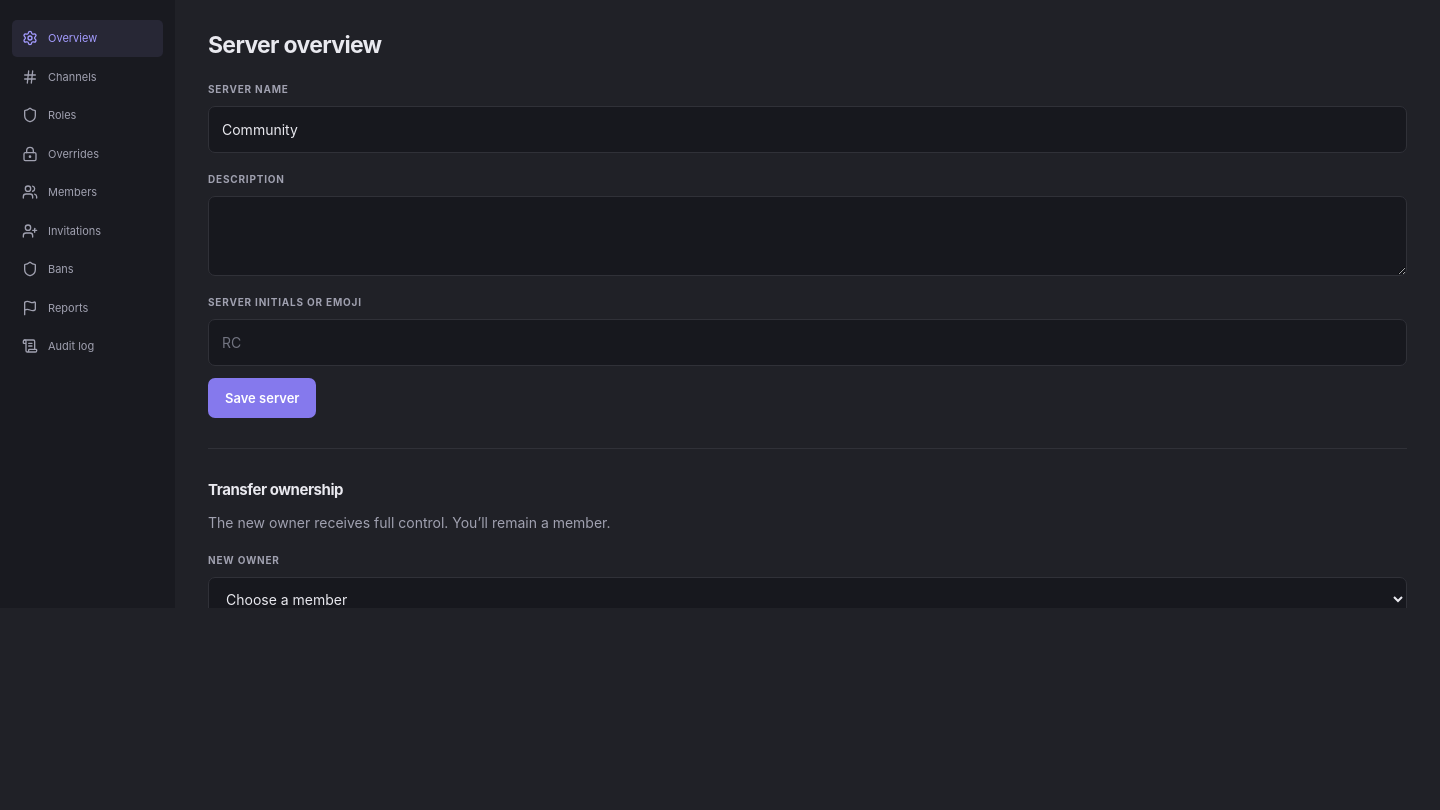
shows failed mutations beside the affected action and retains the dirty form
Replace the text in the field labelled "SERVER NAME" with "Retain me". click: x=808, y=129
box: [208,106,1407,152]
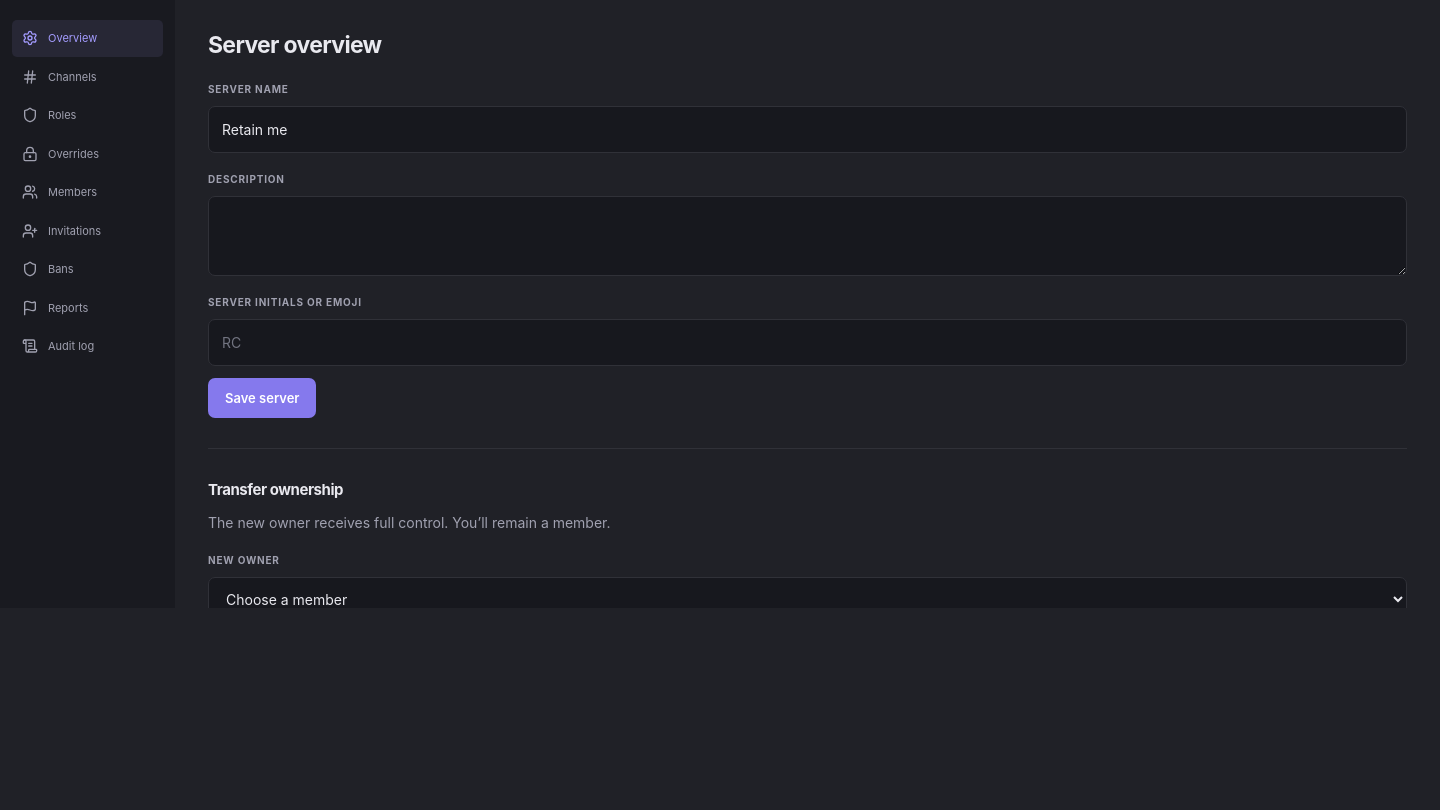
Submit the form labelled "SERVER NAME", box [208,82,1407,418]
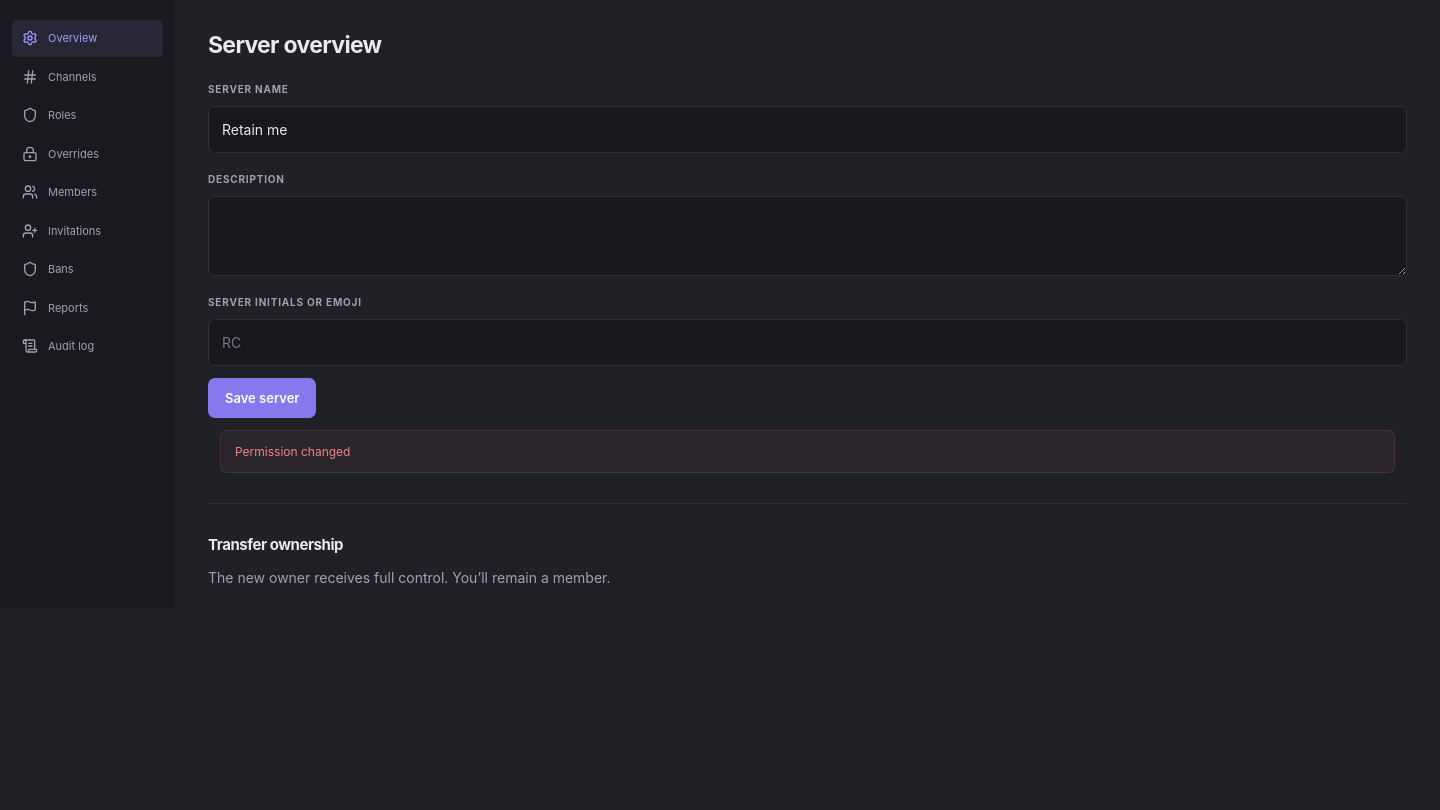
Now the message "Permission changed" is shown, box [220,430,1395,473]
